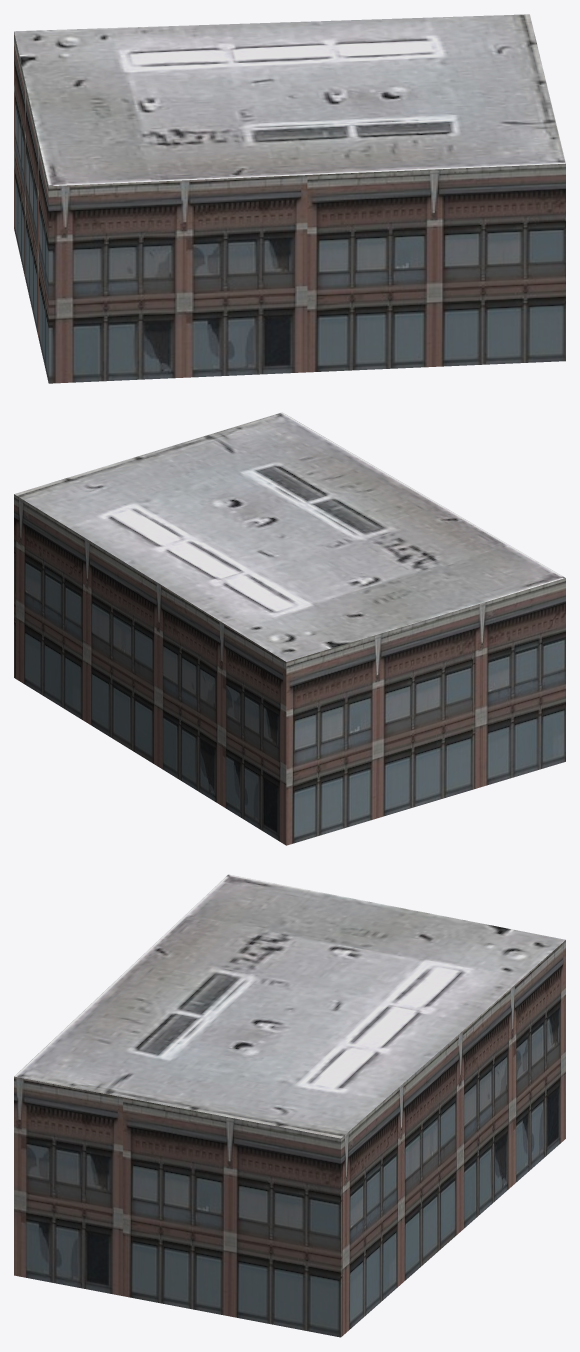
The model's file is EduTex__8.fbx.
The picture shows the model from 3 angles, top to bottom: view 1: azimuth 30°, elevation 25°; view 2: azimuth 150°, elevation 25°; view 3: azimuth 270°, elevation 25°; orthographic projection. The views are drawn at different scales.
Visible parts, largest first — view 1: CityEngineMaterial_12_m, CityEngineMaterial_11_m; view 2: CityEngineMaterial_12_m, CityEngineMaterial_11_m; view 3: CityEngineMaterial_12_m, CityEngineMaterial_11_m.
Boxes of the visible parts, box(x1,y1,x2,y2) form: CityEngineMaterial_12_m: box(14, 32, 565, 383); CityEngineMaterial_11_m: box(14, 14, 565, 186); CityEngineMaterial_12_m: box(14, 494, 565, 845); CityEngineMaterial_11_m: box(14, 412, 565, 661); CityEngineMaterial_12_m: box(14, 940, 565, 1337); CityEngineMaterial_11_m: box(14, 874, 565, 1138).
Bounding box in the file's own units: 17.09 × 6 × 15.09.
2 materials, 2 textured.
